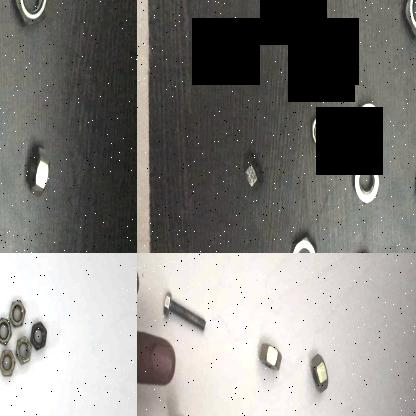Bolts: (160, 290, 210, 340)
NUTS: (352, 148, 385, 216), (20, 142, 56, 202), (352, 96, 386, 152), (8, 0, 53, 30), (308, 348, 334, 396), (288, 222, 323, 253), (255, 340, 285, 376), (298, 44, 320, 91), (242, 149, 262, 194), (310, 110, 332, 150), (13, 332, 34, 368), (401, 0, 416, 45), (31, 317, 49, 351), (9, 298, 26, 330), (262, 0, 285, 20), (0, 351, 17, 378), (0, 317, 14, 344)
